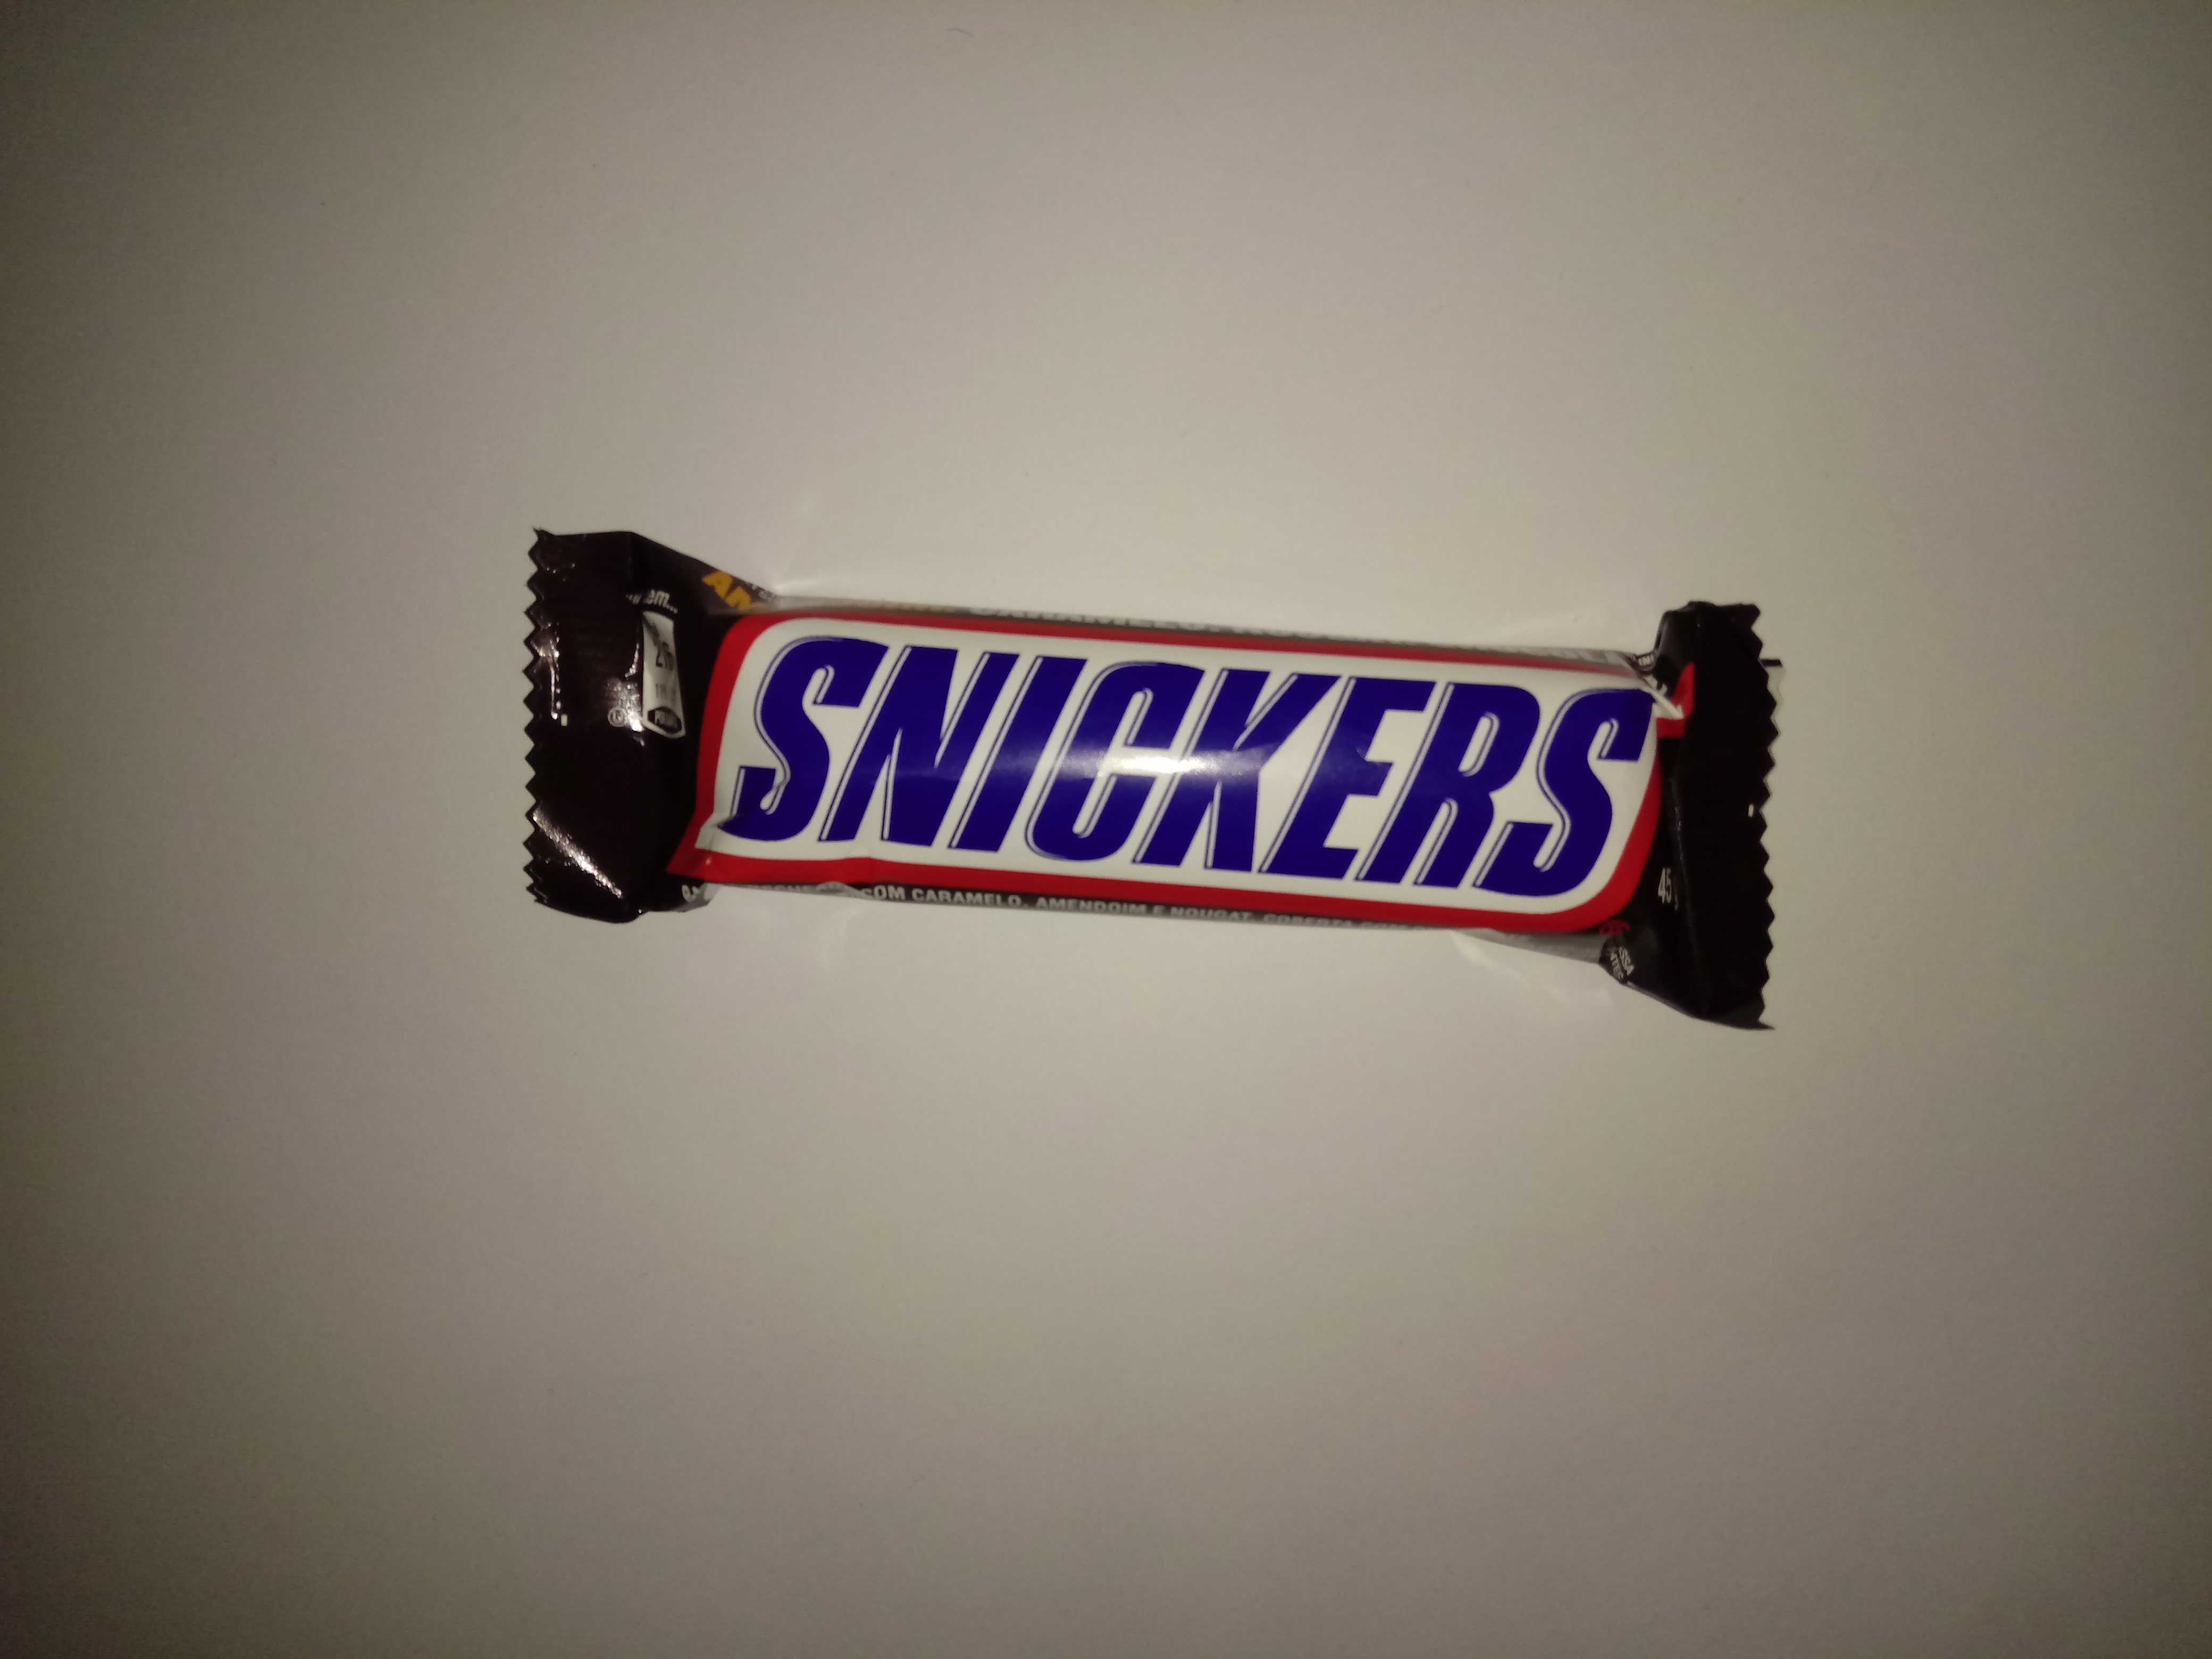snickers: (514, 518, 1791, 1056)
